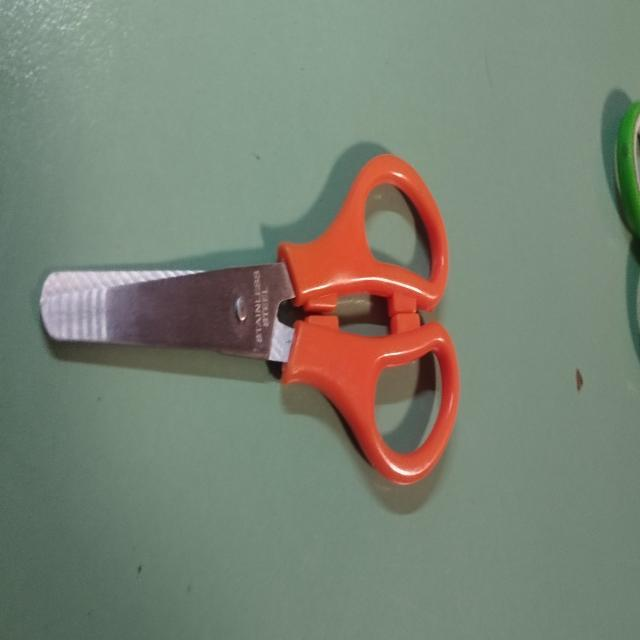tesoura: (33, 132, 463, 496)
